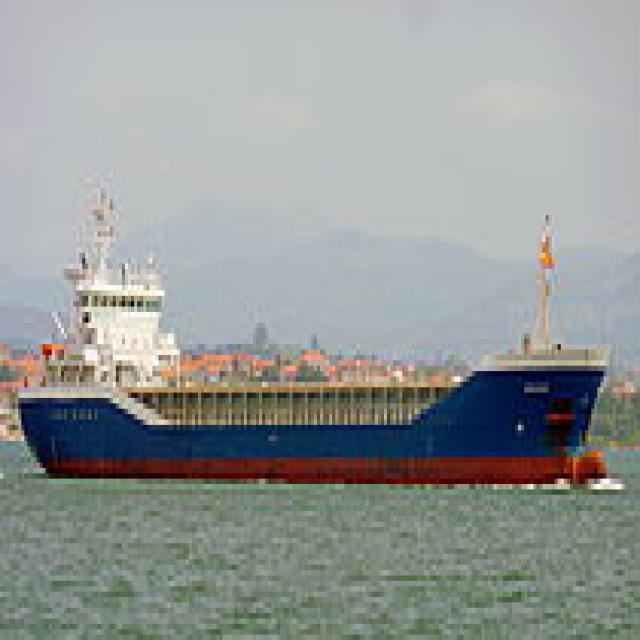Cargo: (12, 178, 610, 490)
